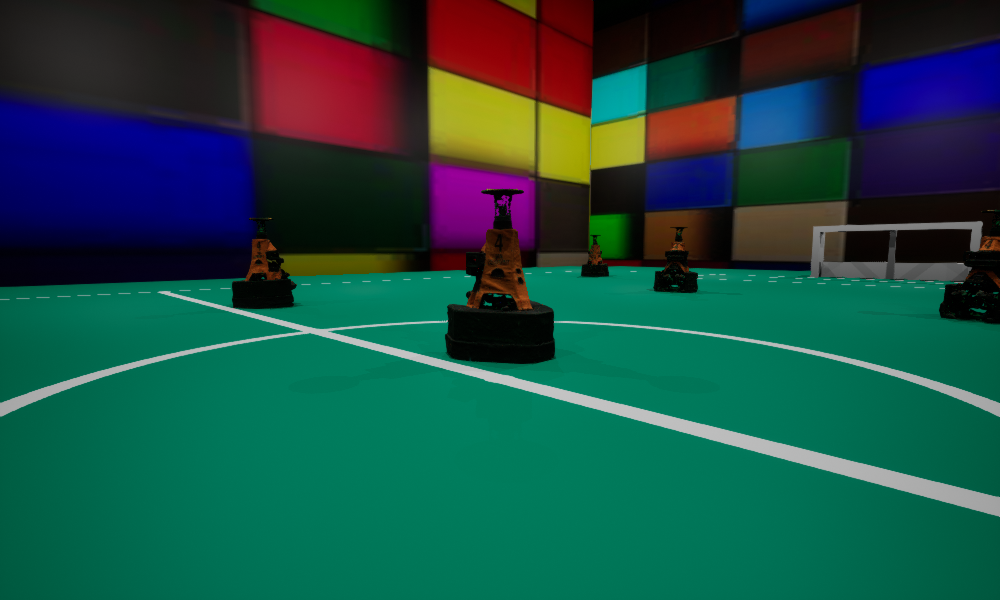0 orange robot TechUnited: (445, 189, 554, 363), (939, 210, 999, 322), (232, 218, 296, 308), (653, 227, 697, 291), (581, 235, 608, 276)
